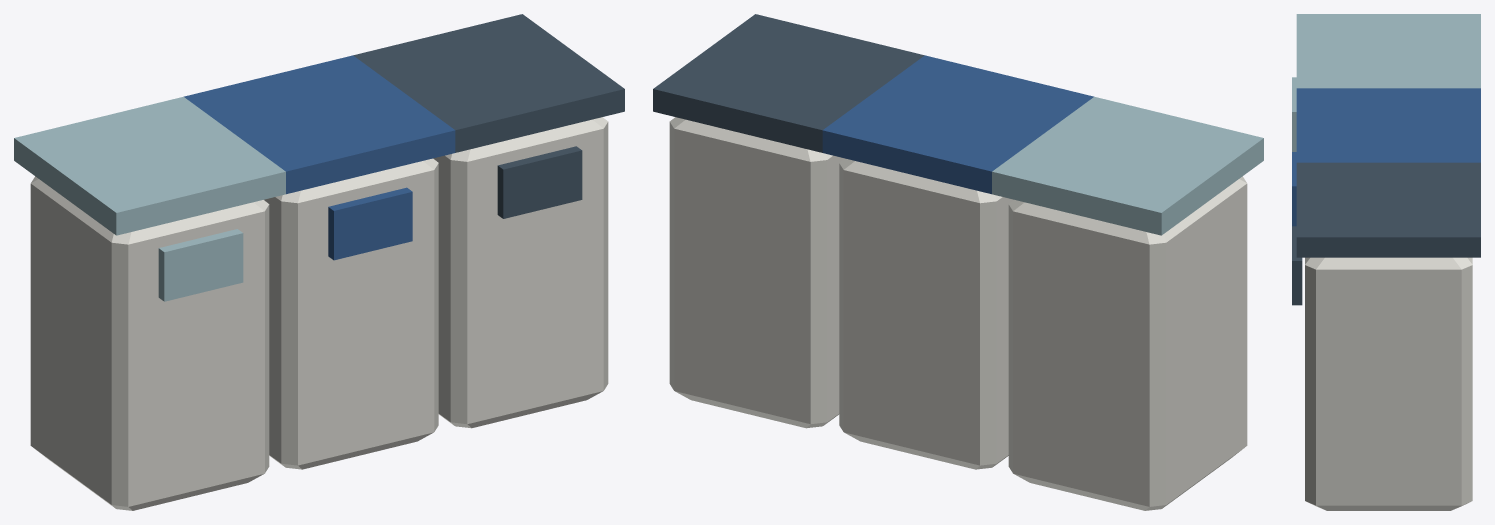
File: v18_street_recycling_bins.glb
3 views of the same model, side by side, from view 1: azimuth 30°, elevation 25°; view 2: azimuth 150°, elevation 25°; view 3: azimuth 270°, elevation 25° (orthographic). The views are drawn at different scales.
Parts seen in each view (by area): view 1: _MeshInstance3D_4450, _MeshInstance3D_4456, _MeshInstance3D_4453, _MeshInstance3D_4451, _MeshInstance3D_4454, _MeshInstance3D_4457, _MeshInstance3D_4458, _MeshInstance3D_4452, _MeshInstance3D_4455; view 2: _MeshInstance3D_4450, _MeshInstance3D_4456, _MeshInstance3D_4453, _MeshInstance3D_4451, _MeshInstance3D_4454, _MeshInstance3D_4457; view 3: _MeshInstance3D_4456, _MeshInstance3D_4457, _MeshInstance3D_4454, _MeshInstance3D_4451, _MeshInstance3D_4458, _MeshInstance3D_4452, _MeshInstance3D_4455.
Part boxes in pixels (box(x1,y1,x2,y2)): _MeshInstance3D_4450: box(30, 176, 269, 510); _MeshInstance3D_4456: box(433, 117, 608, 428); _MeshInstance3D_4453: box(264, 158, 438, 469); _MeshInstance3D_4451: box(14, 96, 285, 235); _MeshInstance3D_4454: box(184, 55, 455, 194); _MeshInstance3D_4457: box(353, 14, 624, 152); _MeshInstance3D_4458: box(497, 146, 582, 218); _MeshInstance3D_4452: box(158, 229, 243, 301); _MeshInstance3D_4455: box(328, 187, 412, 260); _MeshInstance3D_4450: box(1008, 176, 1247, 510); _MeshInstance3D_4456: box(669, 117, 844, 428); _MeshInstance3D_4453: box(839, 158, 1013, 469); _MeshInstance3D_4451: box(992, 96, 1263, 235); _MeshInstance3D_4454: box(822, 55, 1093, 194); _MeshInstance3D_4457: box(653, 14, 924, 152); _MeshInstance3D_4456: box(1305, 257, 1472, 510); _MeshInstance3D_4457: box(1296, 162, 1480, 257); _MeshInstance3D_4454: box(1296, 88, 1480, 162); _MeshInstance3D_4451: box(1296, 14, 1480, 88); _MeshInstance3D_4458: box(1292, 226, 1302, 305); _MeshInstance3D_4452: box(1292, 77, 1296, 151); _MeshInstance3D_4455: box(1292, 152, 1296, 226).
Bounding box in the file's own units: 1.7 × 1 × 0.6092.
